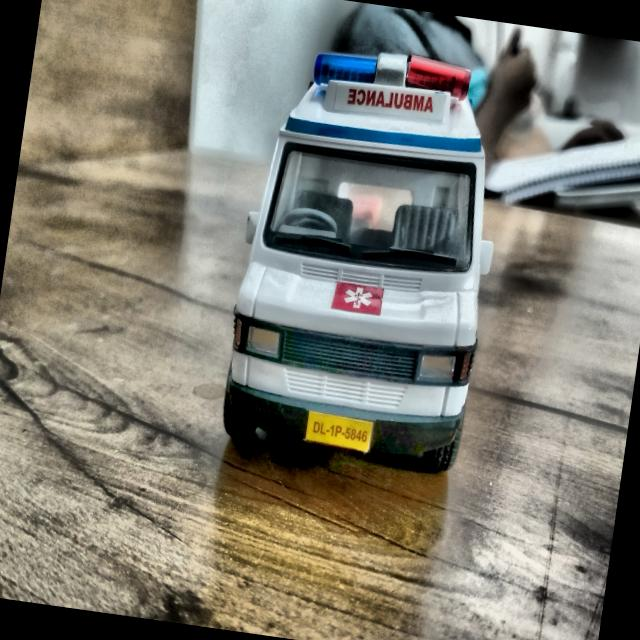Ambulance: (208, 32, 521, 505)
